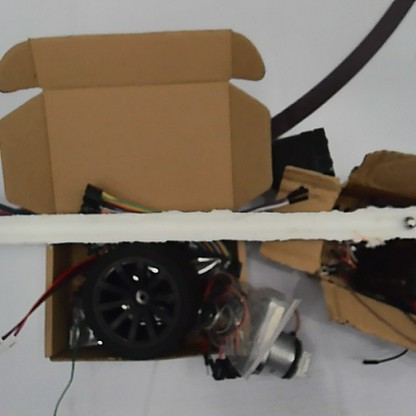ironball: (400, 213, 414, 229)
